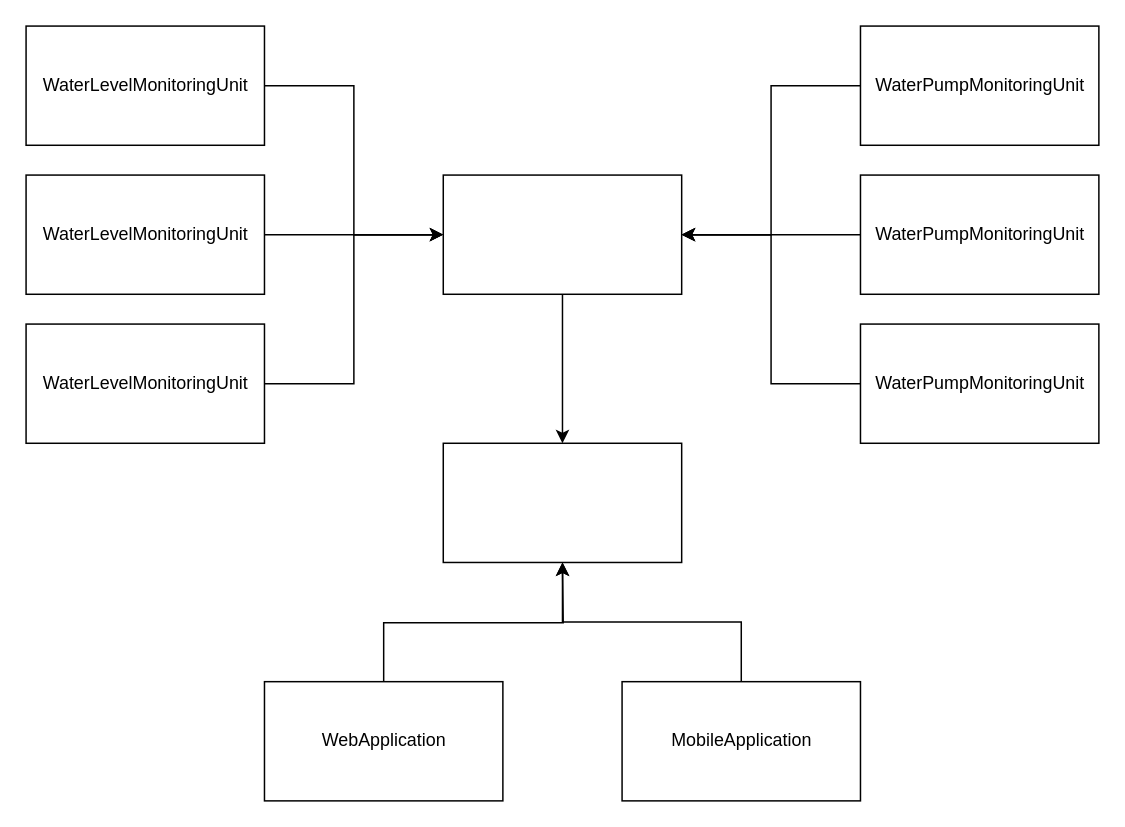
Image size: 1125x827. Some labels were removed from this diagram. Each missing label, with the centre of its shape:
"CloudServices" belongs at [562,502].
"MainControllerUnit" belongs at [562,234].
